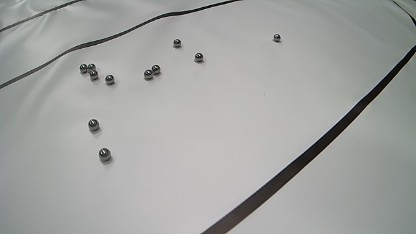ironball: (98, 148, 111, 161), (88, 119, 99, 131), (105, 74, 115, 85), (144, 69, 153, 79), (89, 70, 98, 80), (79, 64, 88, 73), (151, 65, 160, 74), (195, 52, 203, 62), (87, 63, 96, 71), (173, 39, 181, 47), (273, 34, 281, 42)
